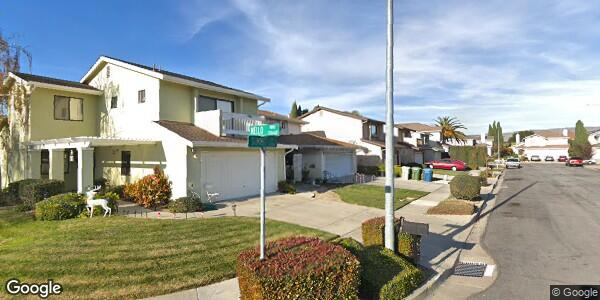Steel_Pole: (381, 1, 401, 257)
